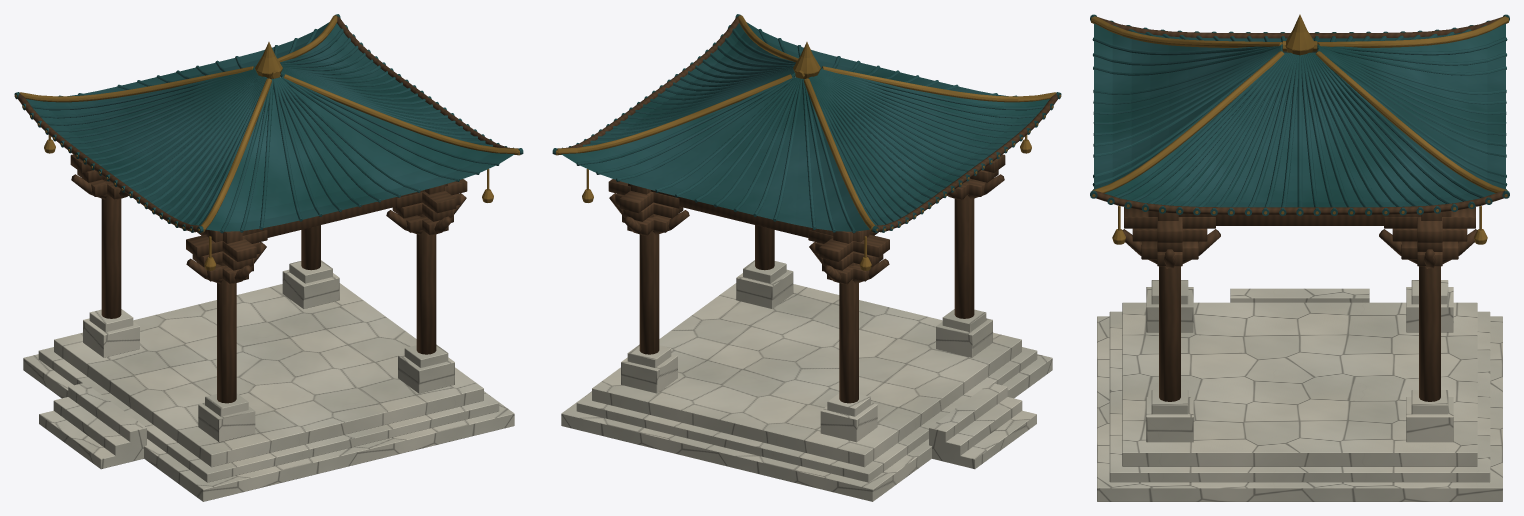
Rendered from a01_pavilion_detail.fbx.
3 views of the same model, side by side, from view 1: azimuth 30°, elevation 25°; view 2: azimuth 150°, elevation 25°; view 3: azimuth 270°, elevation 25° (orthographic). The views are drawn at different scales.
Parts seen in each view (by area): view 1: a01_pavilion_detail.001; view 2: a01_pavilion_detail.001; view 3: a01_pavilion_detail.001.
Part boxes in pixels (bbox=[...]): a01_pavilion_detail.001: bbox=[14, 14, 523, 501]; a01_pavilion_detail.001: bbox=[552, 14, 1061, 501]; a01_pavilion_detail.001: bbox=[1090, 14, 1509, 501].
Size of the model in its own units: 52960 by 59300 by 56000.
